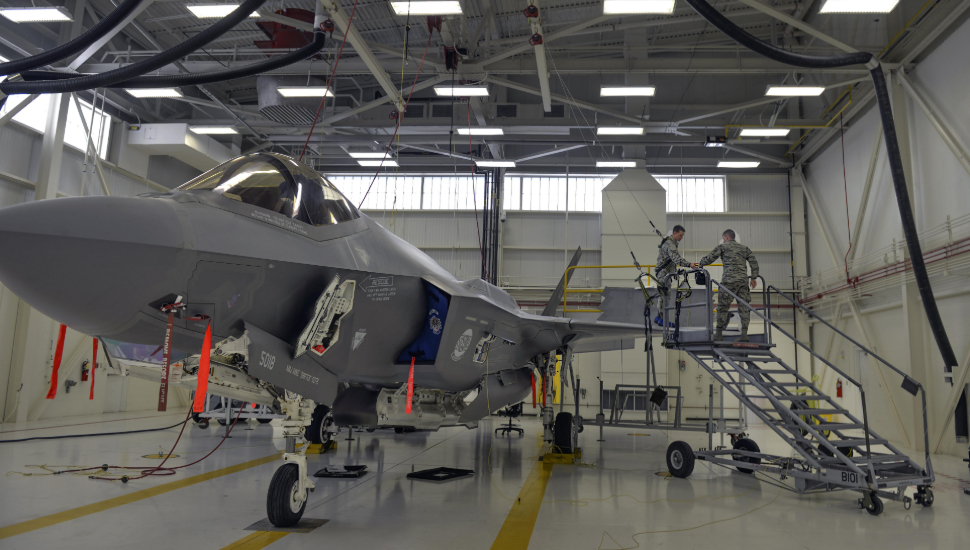F-35 Lightning: (2, 121, 655, 532)
